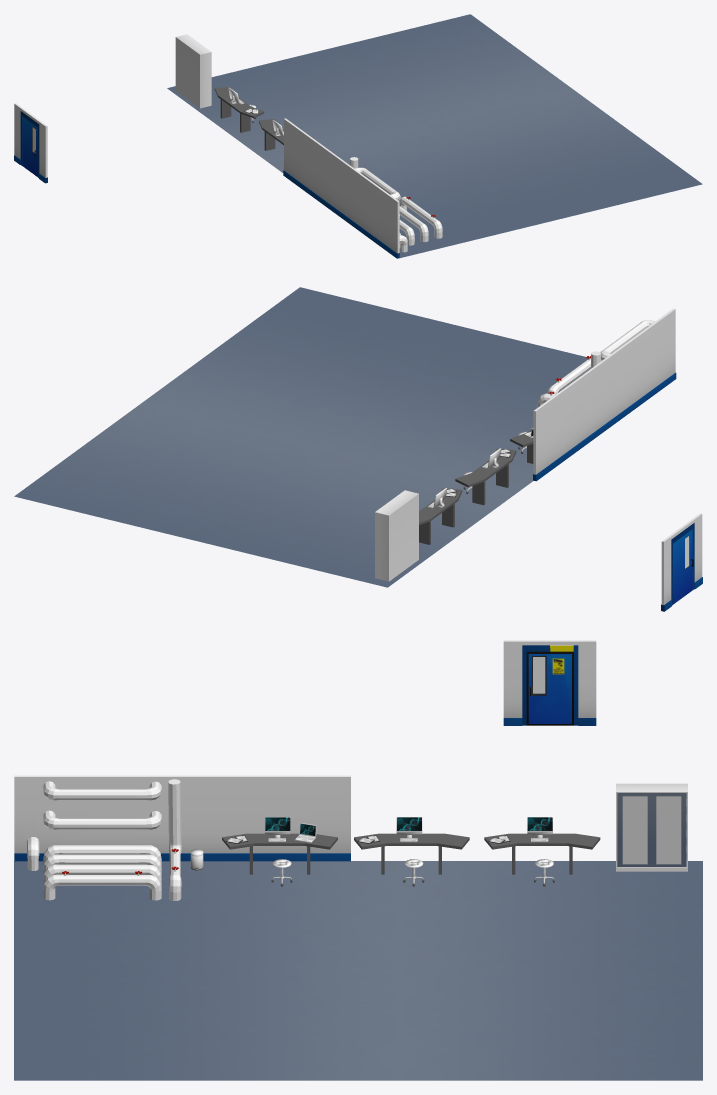
File: lab 4.fbx
3 views of the same model, one above another, from view 1: azimuth 30°, elevation 25°; view 2: azimuth 150°, elevation 25°; view 3: azimuth 270°, elevation 25° (orthographic). The views are drawn at different scales.
Visible parts, largest first — view 1: base, Cube.005, cube, Cube.004, Cube.016, Plane.001, Cylinder.005, Cube.010; view 2: base, Cube.005, cube, Cube.004, Plane.001, Cube.010, Cube.016, Cylinder.006, Cylinder.005; view 3: base, Cube.005, Cube.004, Plane.001, cabinet door.001, cabinet door, Cylinder.005, Cylinder.002, Cylinder.007, Cube.016, Cube.010, Cylinder.006 (+5 smaller).
Part boxes in pixels (x1,y1,x2,y2): base: (167, 14, 702, 257); Cube.005: (283, 118, 399, 258); cube: (175, 34, 211, 108); Cube.004: (14, 103, 47, 183); Cube.016: (214, 86, 264, 132); Plane.001: (22, 116, 37, 176); Cylinder.005: (399, 196, 442, 238); Cube.010: (259, 119, 283, 150); base: (14, 287, 601, 587); Cube.005: (533, 308, 676, 481); cube: (375, 490, 418, 581); Cube.004: (661, 513, 702, 611); Plane.001: (673, 529, 693, 604); Cube.010: (455, 448, 516, 505); Cube.016: (419, 488, 462, 544); Cylinder.006: (600, 320, 655, 360); Cylinder.005: (547, 356, 590, 395); base: (14, 861, 702, 1080); Cube.005: (14, 775, 350, 861); Cube.004: (503, 640, 596, 725); Plane.001: (526, 651, 573, 725); cabinet door.001: (652, 793, 686, 866); cabinet door: (617, 793, 651, 866); Cylinder.005: (43, 871, 161, 900); Cylinder.002: (168, 779, 181, 900); Cylinder.007: (43, 810, 161, 829); Cube.016: (484, 833, 600, 874); Cube.010: (354, 833, 469, 874); Cylinder.006: (43, 781, 161, 800).
Size of the model in its own units: 29.18 by 3.26 by 23.78.
